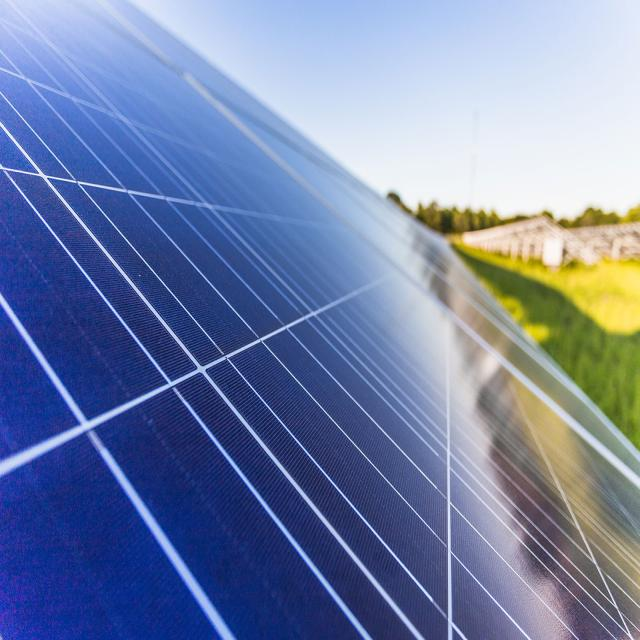clean-solar-panel: (0, 4, 640, 639)
